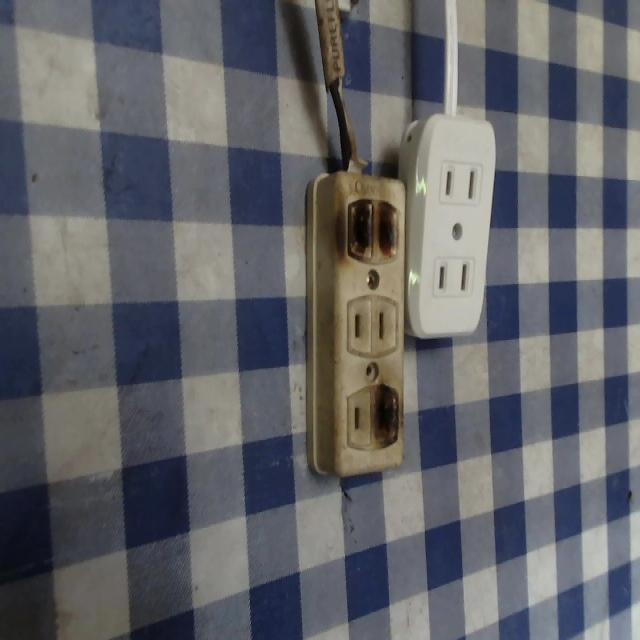-: (342, 193, 399, 266), (369, 386, 400, 446)
